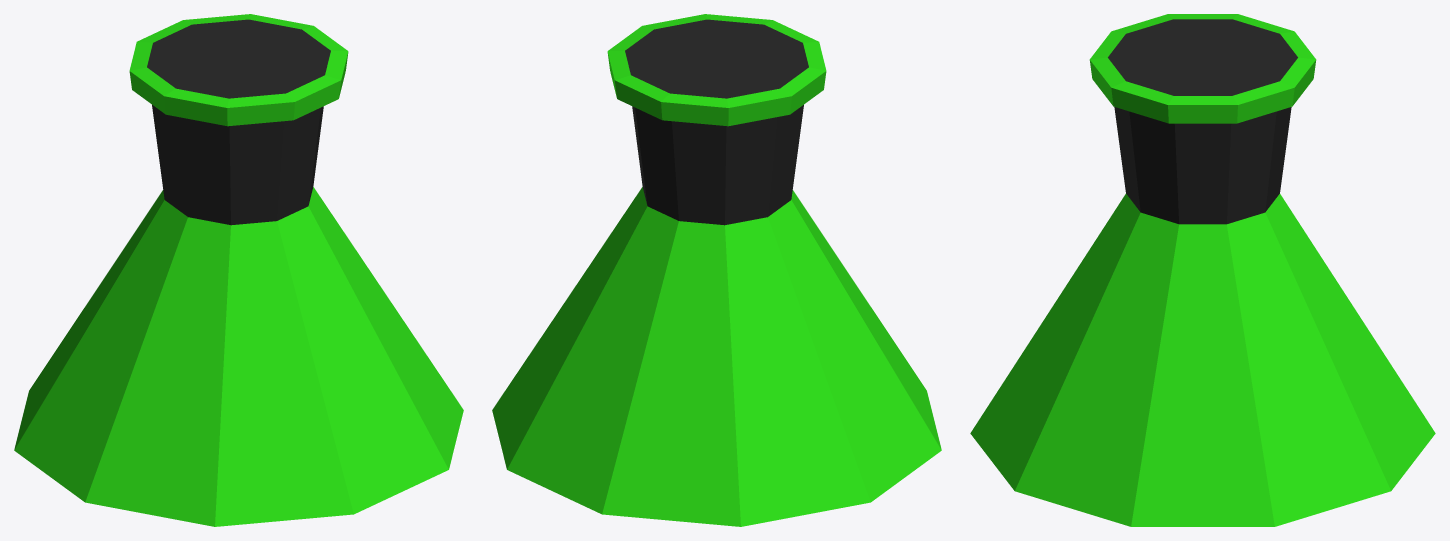
Rendered from green flaskblend.fbx.
3 views of the same model, side by side, from view 1: azimuth 30°, elevation 25°; view 2: azimuth 150°, elevation 25°; view 3: azimuth 270°, elevation 25° (orthographic).
Parts seen in each view (by area): view 1: green flask; view 2: green flask; view 3: green flask.
Boxes of the visible parts, x1=… form: green flask: x1=14, y1=14, x2=463, y2=526; green flask: x1=492, y1=14, x2=941, y2=526; green flask: x1=970, y1=14, x2=1435, y2=526.
Size of the model in its own units: 190 by 178 by 200.
